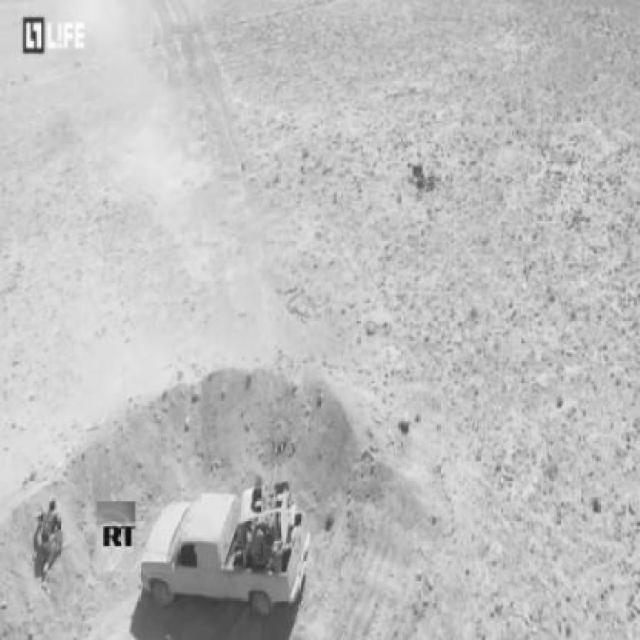Person: (35, 496, 64, 577)
Vehicle: (140, 488, 311, 609)
